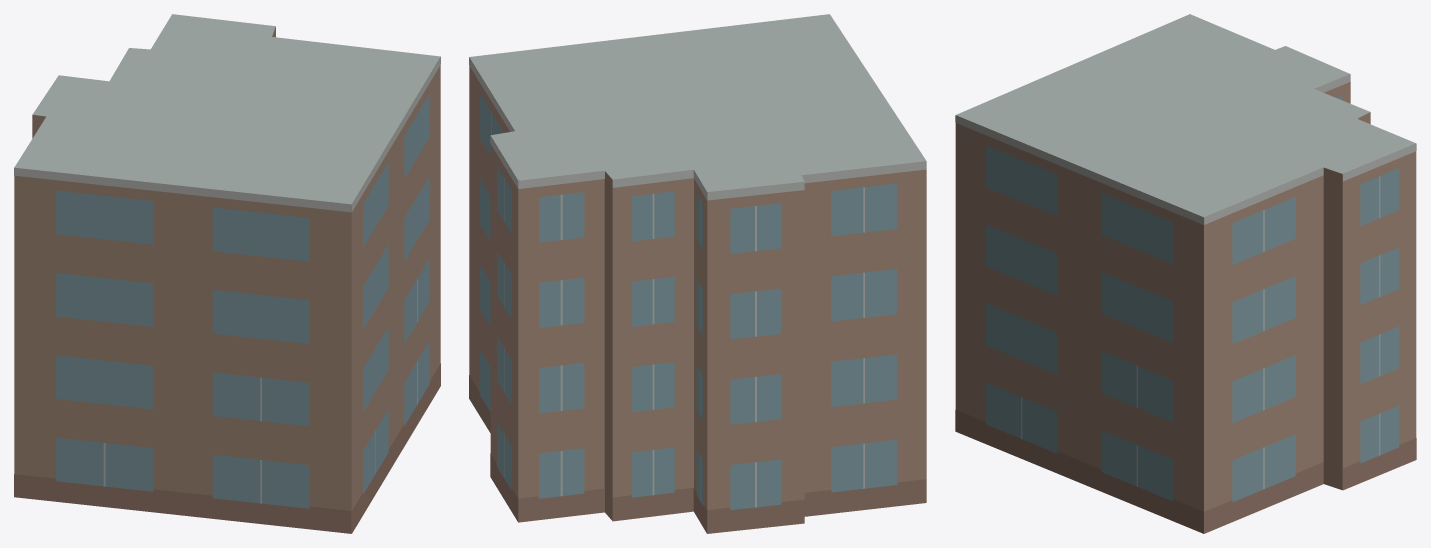
File: survey-upis-32999906.glb
3 views of the same model, side by side, from view 1: azimuth 30°, elevation 25°; view 2: azimuth 150°, elevation 25°; view 3: azimuth 270°, elevation 25° (orthographic). The views are drawn at different scales.
Visible parts, largest first — view 1: survey-upis-32999906.tmp; view 2: survey-upis-32999906.tmp; view 3: survey-upis-32999906.tmp.
Part boxes in pixels (x1,y1,x2,y2): survey-upis-32999906.tmp: (14,14,440,533); survey-upis-32999906.tmp: (469,14,926,533); survey-upis-32999906.tmp: (955,14,1416,533).
Size of the model in its own units: 13.87 by 10.06 by 13.29.
